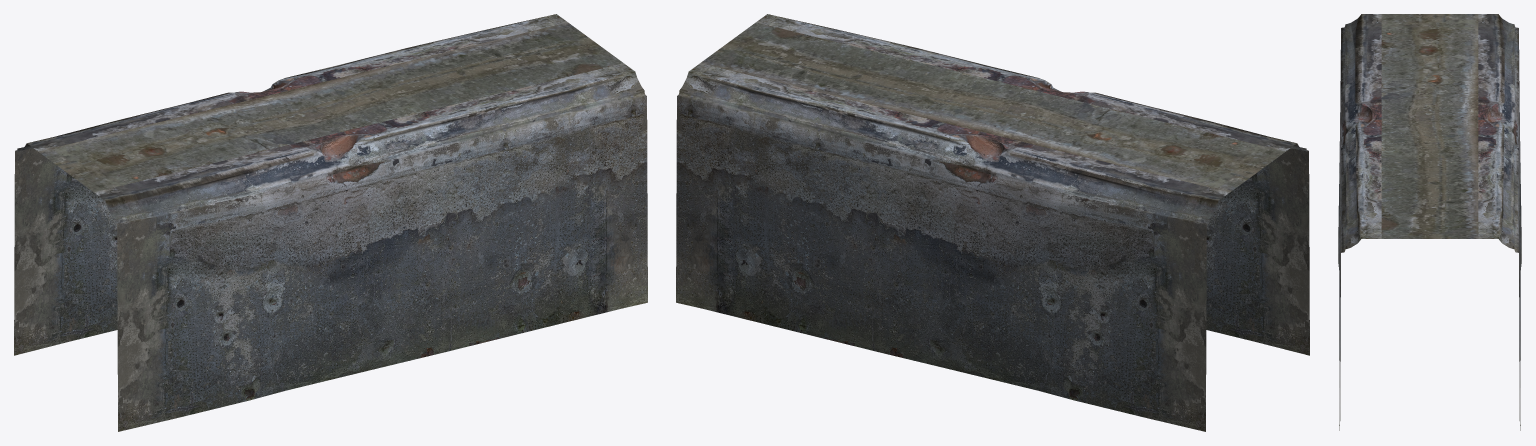
Rendered from SM_ChapelWall_05_01.fbx.
The picture shows the model from 3 angles, left to right: view 1: azimuth 30°, elevation 25°; view 2: azimuth 150°, elevation 25°; view 3: azimuth 270°, elevation 25°; orthographic projection. The views are drawn at different scales.
Visible parts, largest first — view 1: sm_ChapelWall_05_01_LOD0; view 2: sm_ChapelWall_05_01_LOD0; view 3: sm_ChapelWall_05_01_LOD0.
Part boxes in pixels (x1,y1,x2,y2): sm_ChapelWall_05_01_LOD0: [14, 14, 647, 431]; sm_ChapelWall_05_01_LOD0: [676, 14, 1309, 431]; sm_ChapelWall_05_01_LOD0: [1338, 14, 1521, 430].
Bounding box in the file's own units: 86.07 × 250 × 100.
